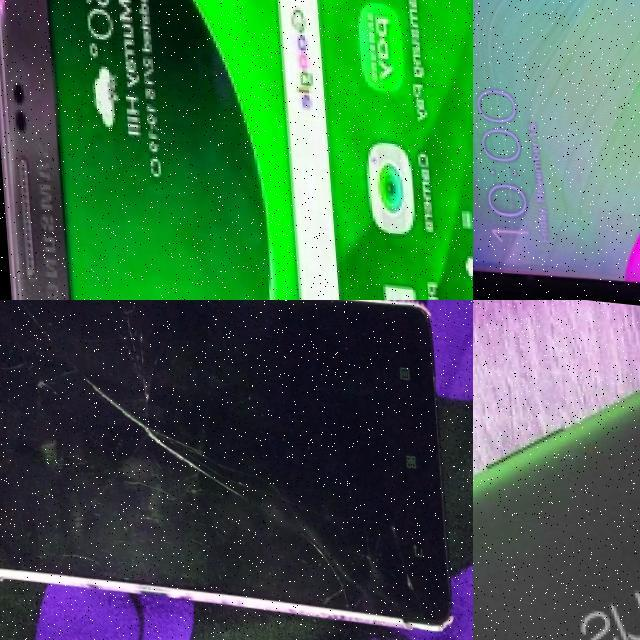screen crack: (40, 321, 421, 615)
